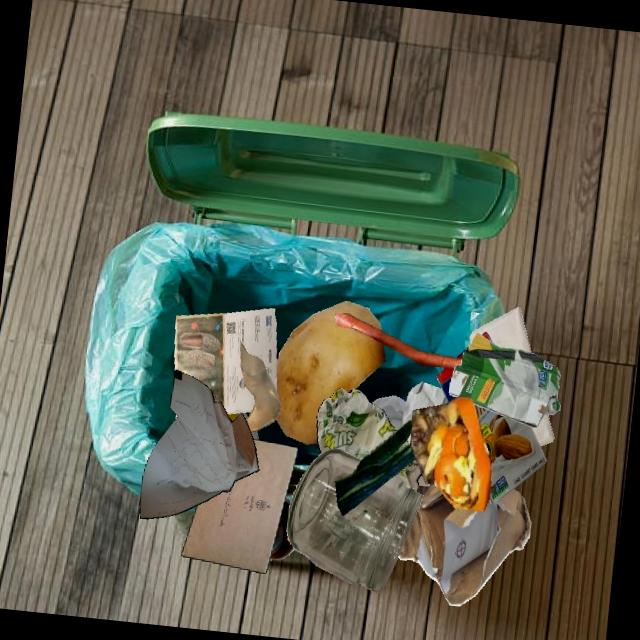biowaste: (276, 300, 384, 444), (410, 395, 491, 511), (335, 420, 415, 515), (335, 313, 461, 369)
cardboard: (397, 485, 530, 605), (448, 333, 560, 427), (456, 331, 493, 494), (488, 410, 546, 505)
glass: (286, 448, 422, 592), (240, 341, 281, 432), (269, 497, 294, 559), (285, 466, 306, 497), (417, 474, 436, 486), (227, 412, 247, 421), (250, 431, 258, 440)
paper: (139, 370, 258, 518), (181, 439, 297, 573), (174, 308, 276, 414), (316, 388, 383, 459), (469, 307, 531, 352), (401, 381, 447, 426), (531, 414, 554, 446)
plastic: (371, 395, 405, 430)
